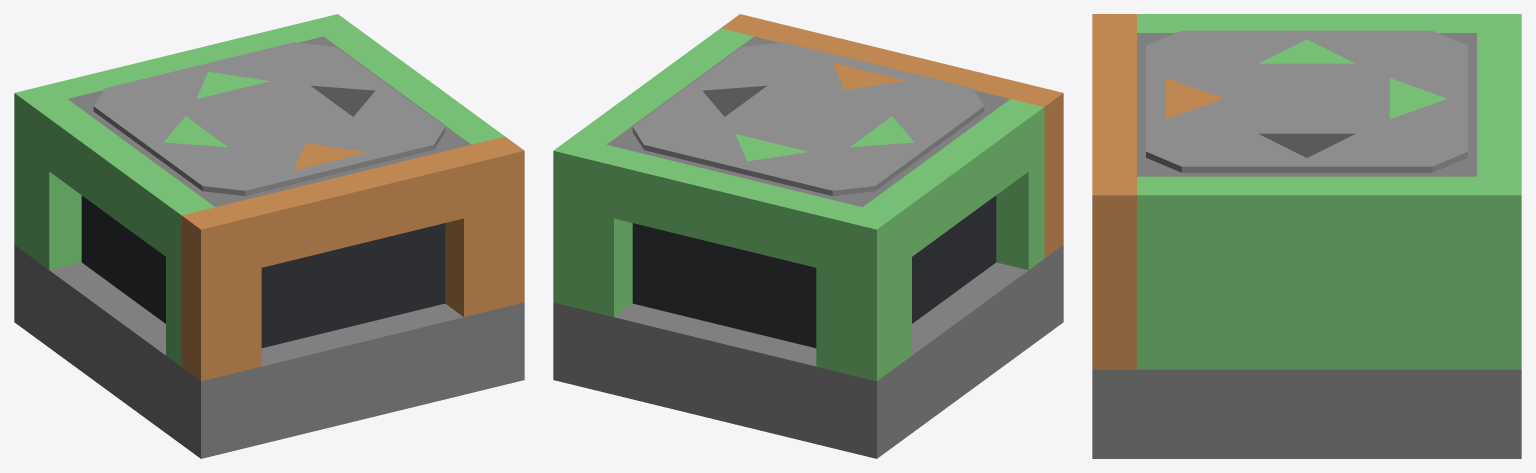
File: vfef_splitter2_fl.obj
The picture shows the model from 3 angles, left to right: view 1: azimuth 30°, elevation 25°; view 2: azimuth 150°, elevation 25°; view 3: azimuth 270°, elevation 25°; orthographic projection. The views are drawn at different scales.
Visible parts, largest first — view 1: vfef_splitter2_fl_0, vfef_splitter2_fl_19, vfef_splitter2_fl_10, vfef_splitter2_fl_9, vfef_splitter2_fl_13, vfef_splitter2_fl_15, vfef_splitter2_fl_8, vfef_splitter2_fl_17, vfef_splitter2_fl_12, vfef_splitter2_fl_14, vfef_splitter2_fl_6, vfef_splitter2_fl_7 (+10 smaller); view 2: vfef_splitter2_fl_0, vfef_splitter2_fl_19, vfef_splitter2_fl_5, vfef_splitter2_fl_4, vfef_splitter2_fl_13, vfef_splitter2_fl_16, vfef_splitter2_fl_3, vfef_splitter2_fl_18, vfef_splitter2_fl_11, vfef_splitter2_fl_14, vfef_splitter2_fl_6, vfef_splitter2_fl_2 (+10 smaller); view 3: vfef_splitter2_fl_6, vfef_splitter2_fl_19, vfef_splitter2_fl_0, vfef_splitter2_fl_17, vfef_splitter2_fl_18, vfef_splitter2_fl_4, vfef_splitter2_fl_9, vfef_splitter2_fl_1, vfef_splitter2_fl_13, vfef_splitter2_fl_20, vfef_splitter2_fl_21, vfef_splitter2_fl_22 (+8 smaller).
Boxes of the visible parts, box(x1,y1,x2,y2) form: vfef_splitter2_fl_0: box(14, 245, 524, 458); vfef_splitter2_fl_19: box(93, 42, 445, 195); vfef_splitter2_fl_10: box(261, 223, 445, 348); vfef_splitter2_fl_9: box(243, 151, 463, 267); vfef_splitter2_fl_13: box(49, 110, 199, 256); vfef_splitter2_fl_15: box(181, 207, 234, 381); vfef_splitter2_fl_8: box(445, 144, 490, 316); vfef_splitter2_fl_17: box(472, 136, 524, 310); vfef_splitter2_fl_12: box(33, 99, 82, 270); vfef_splitter2_fl_14: box(81, 195, 165, 323); vfef_splitter2_fl_6: box(324, 28, 504, 144); vfef_splitter2_fl_7: box(215, 200, 261, 372); vfef_splitter2_fl_0: box(553, 245, 1063, 458); vfef_splitter2_fl_19: box(632, 42, 984, 195); vfef_splitter2_fl_5: box(632, 223, 816, 348); vfef_splitter2_fl_4: box(614, 151, 834, 267); vfef_splitter2_fl_13: box(878, 110, 1028, 256); vfef_splitter2_fl_16: box(843, 207, 896, 381); vfef_splitter2_fl_3: box(587, 144, 632, 316); vfef_splitter2_fl_18: box(553, 136, 605, 310); vfef_splitter2_fl_11: box(995, 99, 1044, 270); vfef_splitter2_fl_14: box(912, 195, 996, 323); vfef_splitter2_fl_6: box(573, 28, 753, 144); vfef_splitter2_fl_2: box(816, 200, 862, 372); vfef_splitter2_fl_6: box(1137, 176, 1476, 369); vfef_splitter2_fl_19: box(1146, 30, 1467, 172); vfef_splitter2_fl_0: box(1092, 369, 1521, 458); vfef_splitter2_fl_17: box(1092, 176, 1136, 369); vfef_splitter2_fl_18: box(1477, 176, 1521, 369); vfef_splitter2_fl_4: box(1477, 48, 1521, 161); vfef_splitter2_fl_9: box(1092, 48, 1136, 161); vfef_splitter2_fl_1: box(1137, 33, 1476, 176); vfef_splitter2_fl_13: box(1172, 14, 1441, 32); vfef_splitter2_fl_20: box(1258, 39, 1447, 119); vfef_splitter2_fl_21: box(1258, 133, 1355, 157); vfef_splitter2_fl_22: box(1166, 78, 1223, 119).
Bounding box in the file's own units: 0.96 × 0.665 × 0.96.
